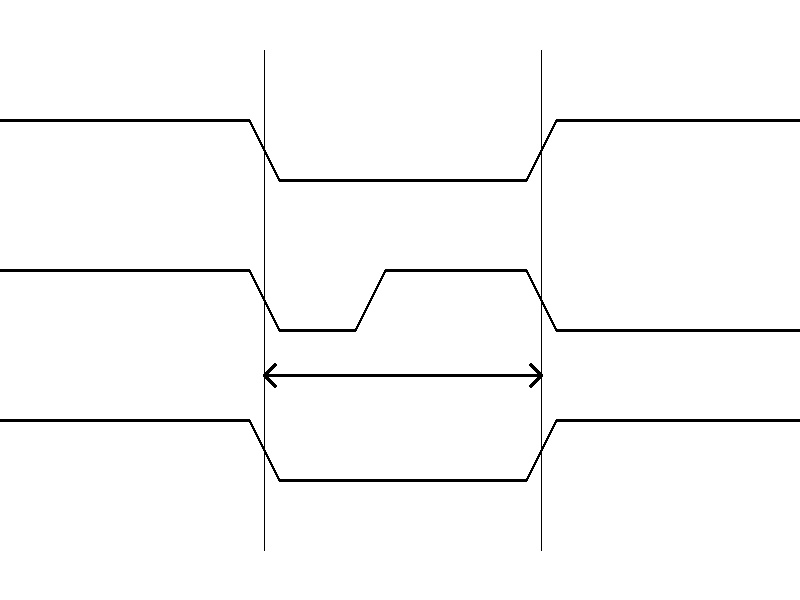double_arrow: (264, 360, 541, 390)
